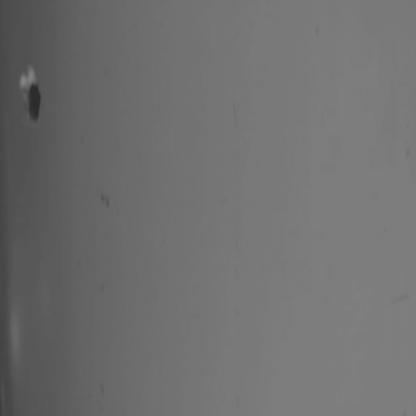kongdong: (13, 62, 53, 131)
